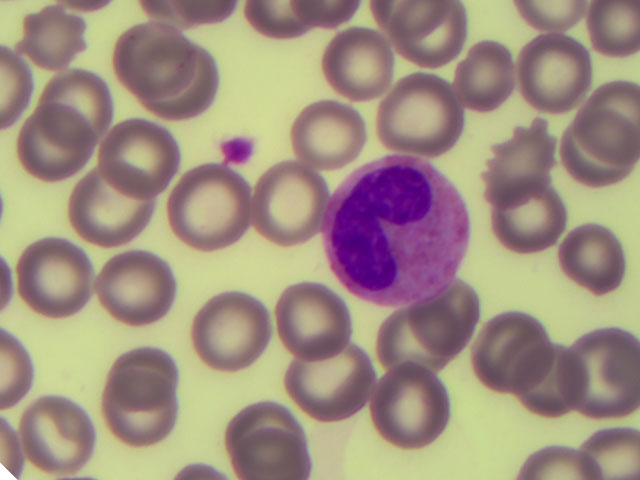Platelets: (216, 130, 258, 165)
RBC: (20, 394, 93, 473), (192, 288, 265, 367), (175, 165, 248, 244), (250, 163, 323, 242), (290, 96, 363, 175), (326, 23, 399, 102), (382, 74, 455, 153), (450, 37, 523, 116), (515, 33, 588, 112), (560, 124, 633, 203), (567, 72, 640, 151), (480, 124, 553, 203), (494, 182, 567, 261), (557, 221, 630, 300), (477, 309, 550, 388), (511, 345, 584, 424), (567, 332, 640, 411), (420, 283, 493, 362), (292, 344, 365, 423), (271, 281, 344, 360), (230, 401, 303, 480), (377, 362, 450, 441), (375, 305, 448, 384), (392, 1, 465, 80), (162, 50, 235, 129), (119, 20, 192, 99), (20, 6, 93, 71), (53, 64, 126, 129), (16, 110, 89, 175), (106, 124, 179, 189), (79, 175, 152, 240), (21, 243, 94, 308), (97, 252, 170, 317), (110, 336, 183, 401), (104, 381, 177, 446), (250, 1, 349, 35), (585, 1, 640, 54), (589, 425, 640, 480), (1, 330, 35, 412), (516, 1, 586, 35)
WBC: (325, 157, 472, 301)
